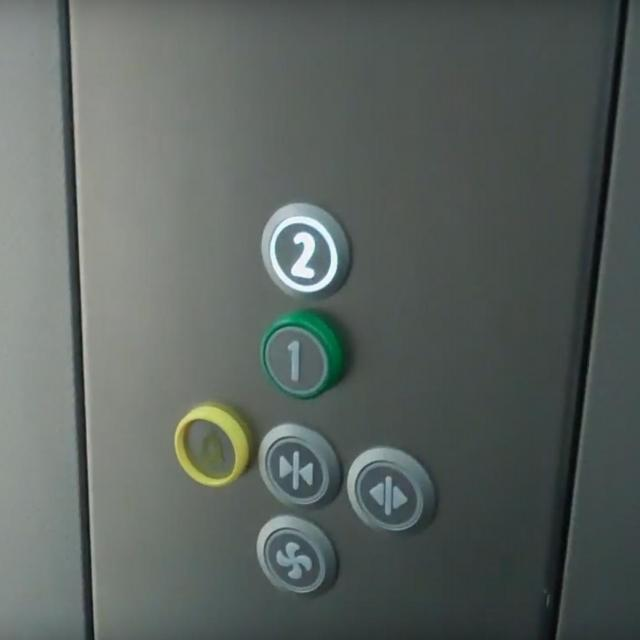1: (259, 309, 341, 400)
2: (257, 198, 353, 302)
alarm: (170, 400, 248, 489)
close: (253, 418, 341, 512)
fan: (254, 512, 338, 600)
open: (346, 441, 434, 535)
